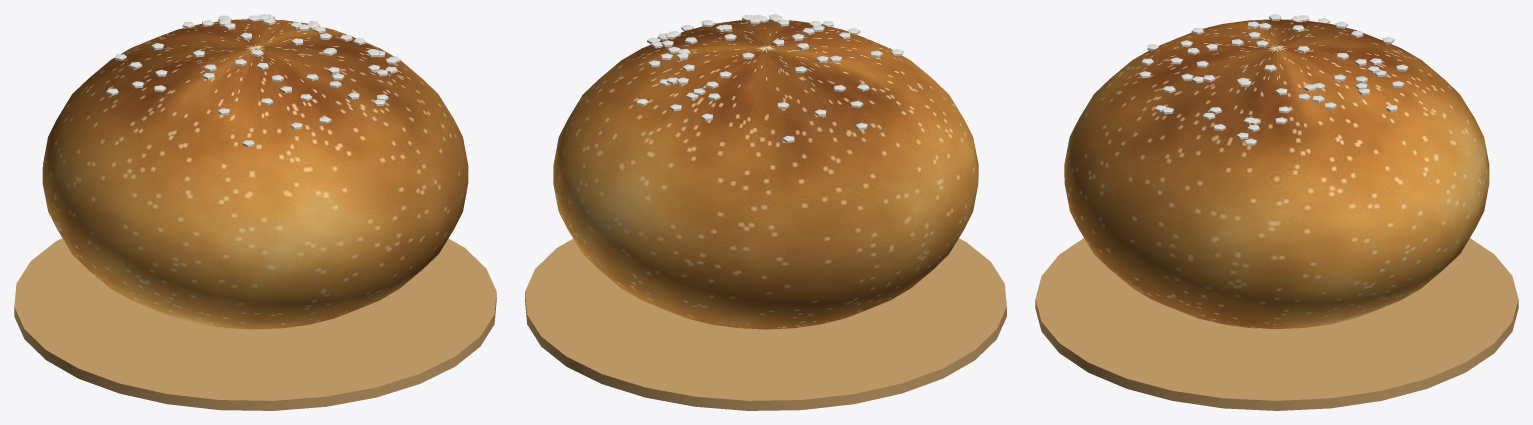
File: bakery_sourdough_boule.glb
3 renders of one model, left to right at view 1: azimuth 30°, elevation 25°; view 2: azimuth 150°, elevation 25°; view 3: azimuth 270°, elevation 25°, orthographic.
Visible parts, largest first — view 1: bakery_sourdough_boule; view 2: bakery_sourdough_boule; view 3: bakery_sourdough_boule.
Part boxes in pixels (x1=…): bakery_sourdough_boule: x1=14, y1=14, x2=496, y2=410; bakery_sourdough_boule: x1=525, y1=14, x2=1006, y2=410; bakery_sourdough_boule: x1=1035, y1=14, x2=1518, y2=410.
Size of the model in its own units: 0.26 by 0.157 by 0.26.
4 materials, 2 textured.
